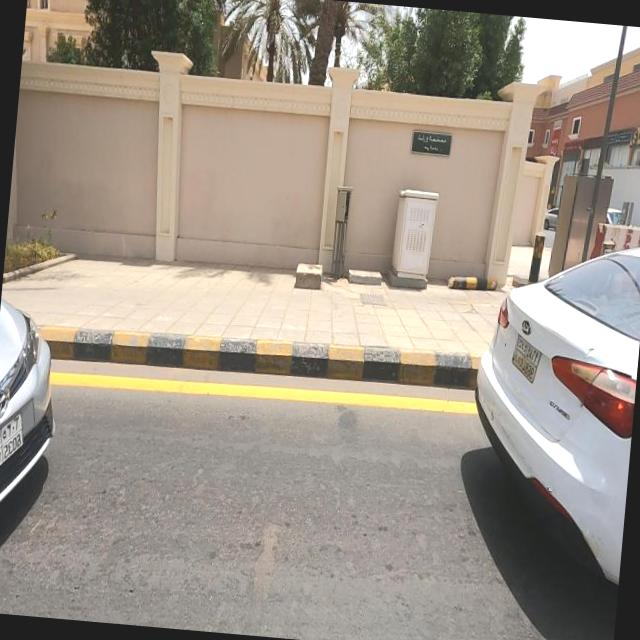debris: (402, 217, 540, 336)
